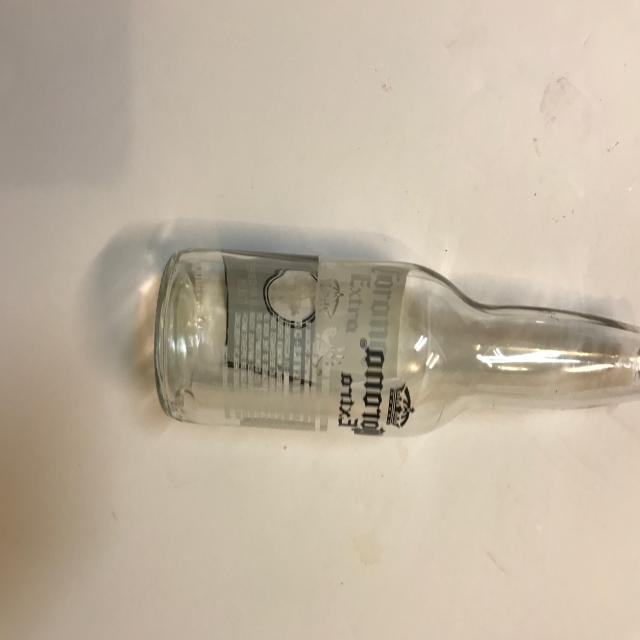glass: (153, 247, 640, 436)
